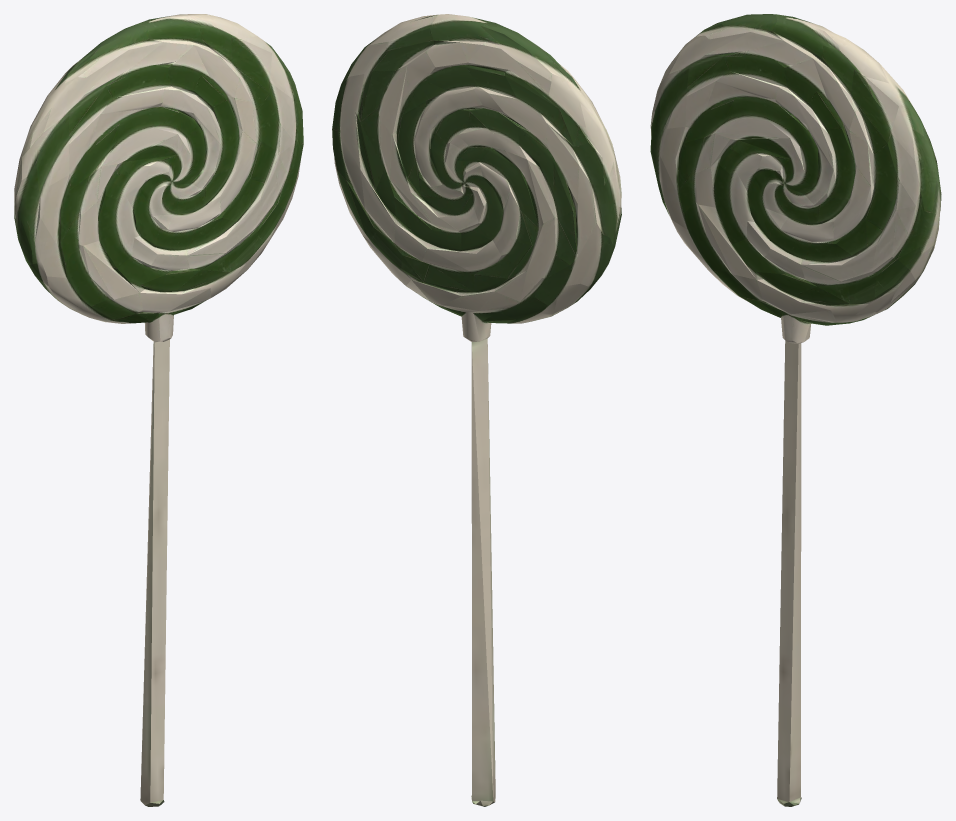
The model's file is lollipop.glb.
3 renders of one model, left to right at view 1: azimuth 30°, elevation 25°; view 2: azimuth 150°, elevation 25°; view 3: azimuth 330°, elevation 25°, orthographic.
Parts seen in each view (by area): view 1: output_unwrapped; view 2: output_unwrapped; view 3: output_unwrapped.
Boxes of the visible parts, left/top/right/bottom form: output_unwrapped: left=14, top=14, right=303, bottom=806; output_unwrapped: left=332, top=14, right=621, bottom=806; output_unwrapped: left=650, top=14, right=941, bottom=806.
Size of the model in its own units: 0.7308 by 1.9 by 0.1116.
Materials: 1 (1 with a texture image).
